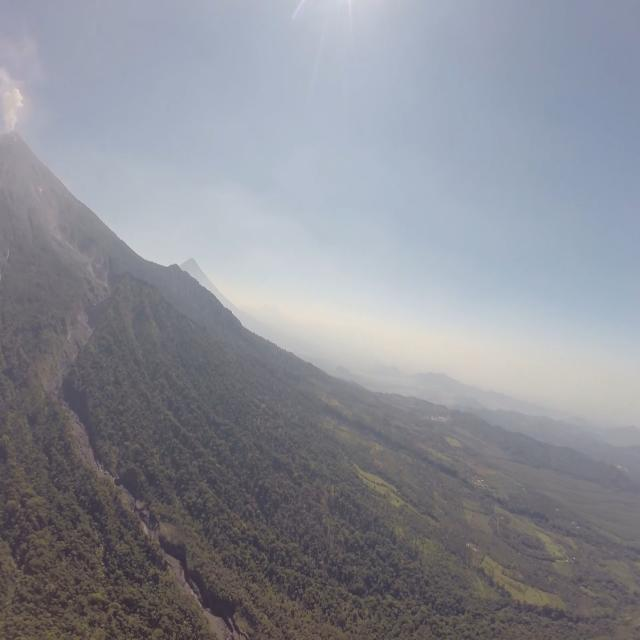Plume: (2, 82, 26, 130)
Summit: (3, 127, 26, 142)
